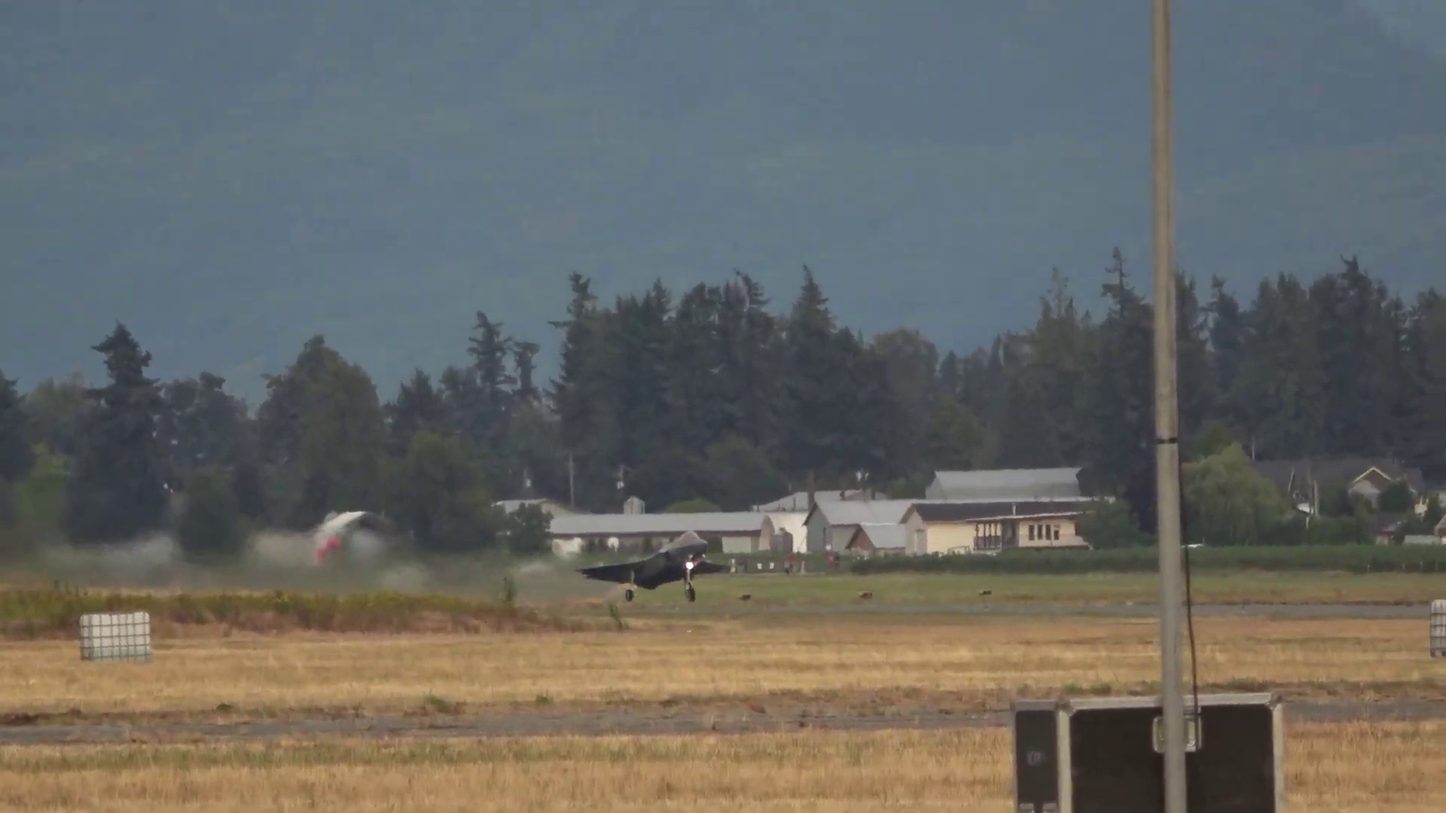F35: (570, 533, 737, 604)
